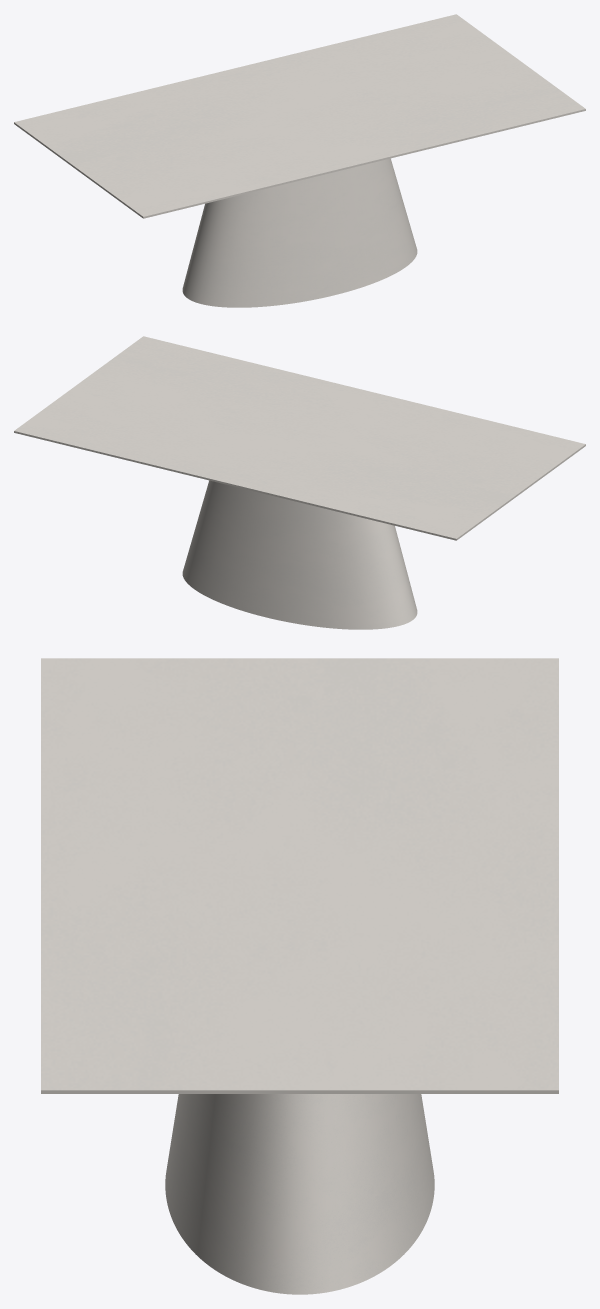
Rendered from pearlwhite_recta_facet_eqone.glb.
The picture shows the model from 3 angles, top to bottom: view 1: azimuth 30°, elevation 25°; view 2: azimuth 150°, elevation 25°; view 3: azimuth 270°, elevation 25°; orthographic projection. The views are drawn at different scales.
Visible parts, largest first — view 1: facet_recta, eqone; view 2: facet_recta, eqone; view 3: facet_recta, eqone.
Part boxes in pixels (x1,y1,x2,y2): facet_recta: [14, 14, 585, 218]; eqone: [182, 158, 417, 307]; facet_recta: [14, 336, 585, 540]; eqone: [182, 480, 417, 629]; facet_recta: [41, 658, 558, 1093]; eqone: [165, 1094, 434, 1294].
Size of the model in its own units: 7.5 by 2.52 by 3.8.
Materials: 1 (1 with a texture image).
